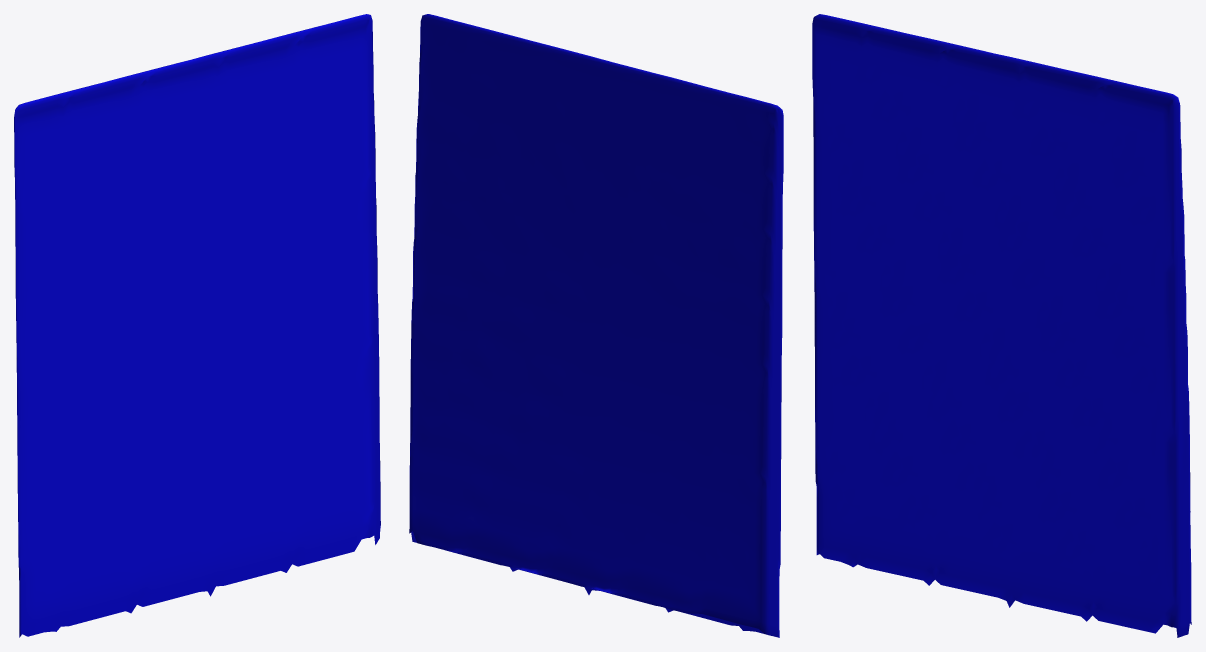
3 views of the same model, side by side, from view 1: azimuth 30°, elevation 25°; view 2: azimuth 150°, elevation 25°; view 3: azimuth 330°, elevation 25° (orthographic).
Bounding box in the file's own units: 0.5843 × 0.8192 × 0.016.
